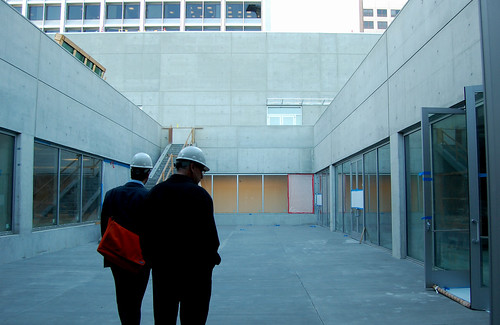person hardhat: (147, 144, 221, 325), (102, 152, 154, 325)
